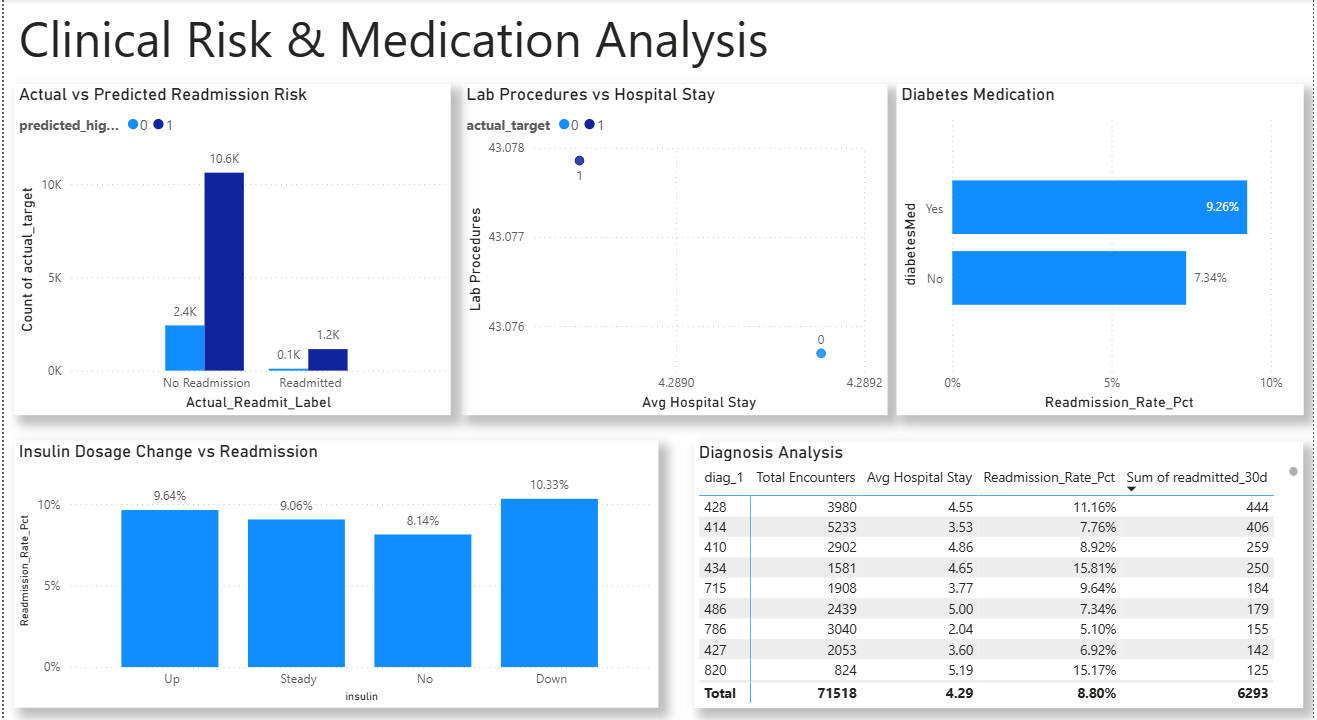

Layout of this report page (visuals, bound fields, positions):
{"tool":"powerbi","page":{"name":"Clinical Risk & Medication Analysis","canvas":[1280,720],"ordinal":1},"visuals":[{"type":"textbox","box":[9.4,0,1181.4,93.5],"z":0},{"type":"columnChart","title":"Insulin Dosage Change vs Readmission","fields":{"Category":["diabetic_data.insulin"],"Y":["admission.Readmission Rate %"]},"box":[10.1,431.4,630,261.9],"z":1000},{"type":"scatterChart","title":"Lab Procedures vs Hospital Stay","fields":{"X":["admission.Avg Hospital Stay"],"Y":["Avg(diabetic_data.num_lab_procedures)"],"Series":["hospital_readmission_predictions.actual_target"]},"box":[447.3,82.9,417.1,324.1],"z":2000},{"type":"barChart","title":"Diabetes Medication","fields":{"Category":["diabetic_data.diabetesMed"],"Y":["admission.Readmission Rate %"]},"box":[873.2,82.9,398.3,324.1],"z":3000},{"type":"pivotTable","title":"Diagnosis Analysis","fields":{"Rows":["diabetic_data.diag_1"],"Values":["admission.Total Encounters","admission.Avg Hospital Stay","hospital_readmission_predictions.Readmission_Rate_Pct","Sum(diabetic_data.readmitted_30d)"]},"box":[675.6,432.7,595.9,260.6],"z":4000},{"type":"clusteredColumnChart","title":"Actual vs Predicted Readmission Risk","fields":{"Series":["hospital_readmission_predictions.predicted_high_risk"],"Category":["hospital_readmission_predictions.Actual_Readmit_Label"],"Y":["CountNonNull(hospital_readmission_predictions.actual_target)"]},"box":[10.1,82.9,427.2,324.1],"z":5000}]}

Visuals, with their boxes in screenshot pixels (x1, y1, x2, y2), scaled from the page's 1280x720 canvas onto the 1317x720 screenshot:
textbox: <box>10,0,1225,94</box>
"Insulin Dosage Change vs Readmission" columnChart: <box>10,431,659,693</box>
"Lab Procedures vs Hospital Stay" scatterChart: <box>460,83,889,407</box>
"Diabetes Medication" barChart: <box>898,83,1308,407</box>
"Diagnosis Analysis" pivotTable: <box>695,433,1308,693</box>
"Actual vs Predicted Readmission Risk" clusteredColumnChart: <box>10,83,450,407</box>
